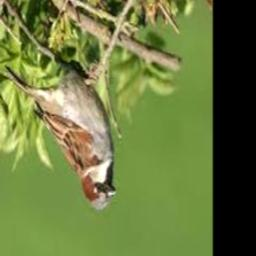Sparrow: (3, 63, 116, 210)
